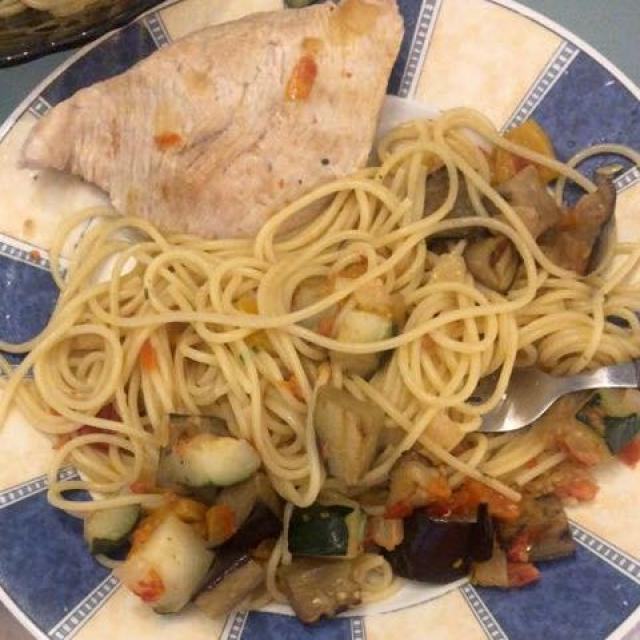pasta-spaghetti: (15, 113, 622, 541)
ratatouille: (82, 120, 631, 637)
